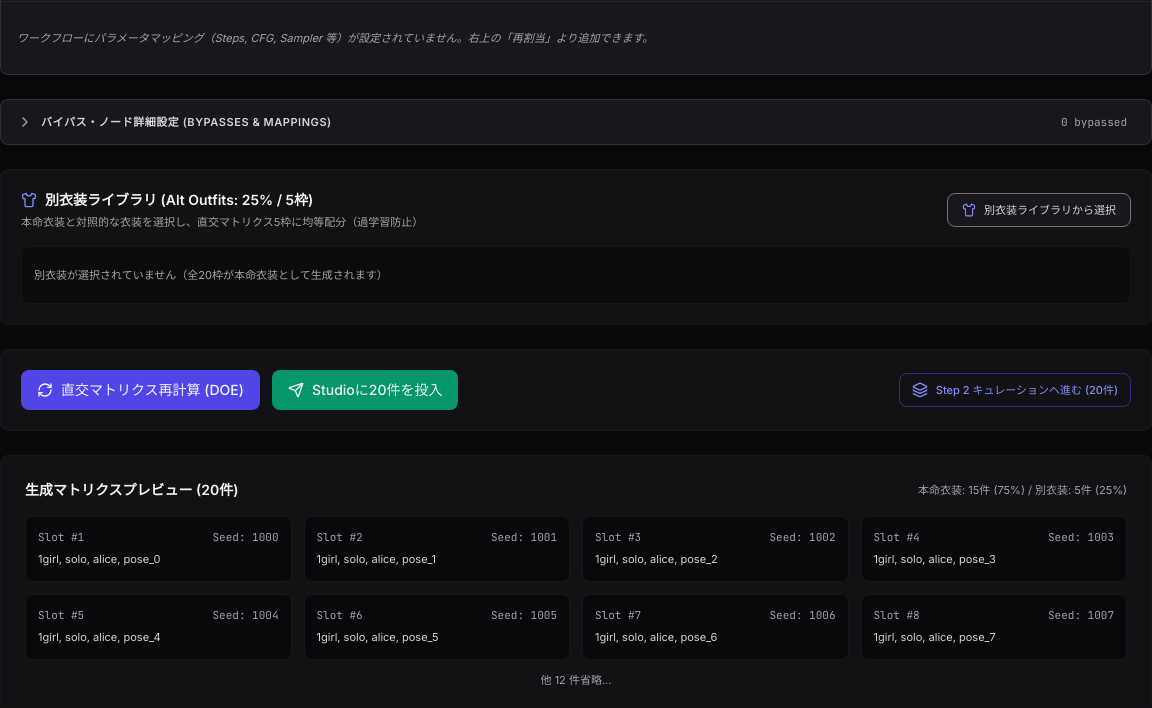
Test: MatrixGenerationStep › [REQ-330/AC-2] reports server generation rejection without per-item POSTs
The width and height of the screenshot is (1152, 708).
(page scrolled)
Click the button with test id "submit-batch-button" at point(365, 390), box [272, 370, 458, 410]
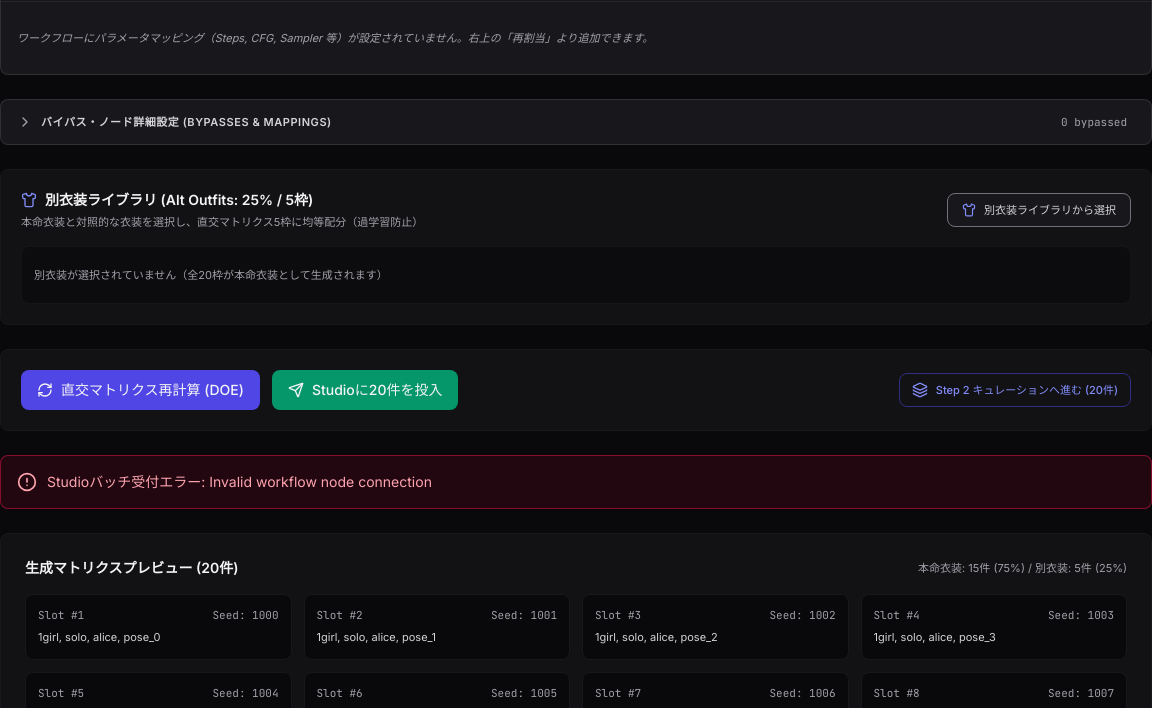
Now the element with test id "status-message" is shown, box [0, 455, 1151, 509]
Now the element with test id "status-message" reads "Studioバッチ受付エラー: Invalid workflow node connection", box [47, 473, 432, 490]
